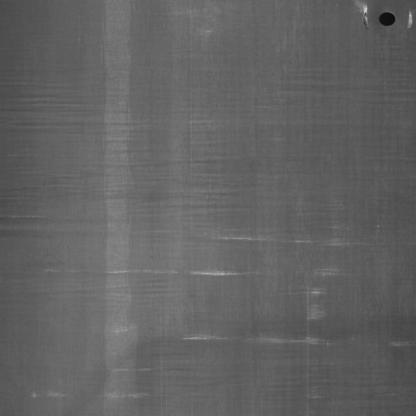punching_hole: (377, 6, 398, 30)
